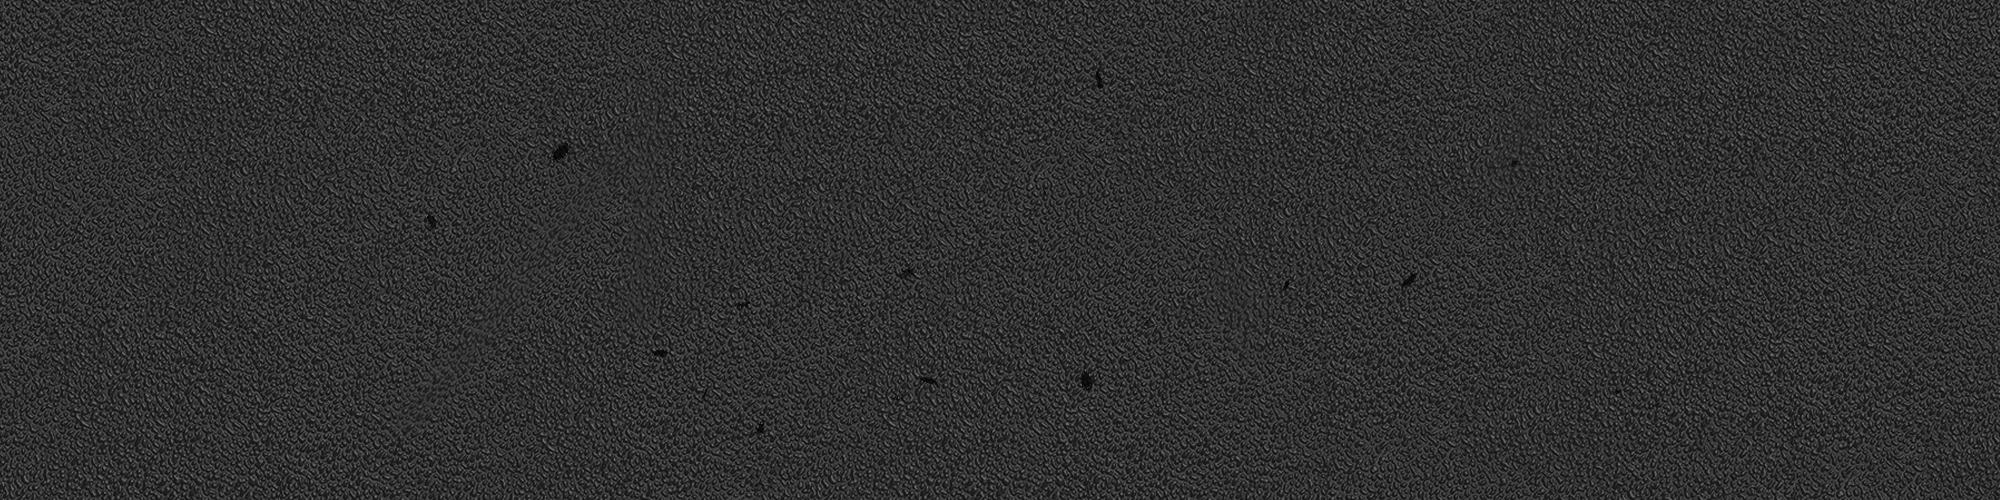Decomposed: (1073, 369, 1099, 394), (1087, 66, 1111, 94), (894, 260, 918, 287), (546, 142, 573, 165), (913, 371, 941, 392), (1393, 272, 1422, 287), (423, 210, 443, 233), (645, 344, 671, 361), (733, 295, 753, 316), (1278, 276, 1298, 290), (753, 418, 770, 434), (1506, 156, 1526, 168)
